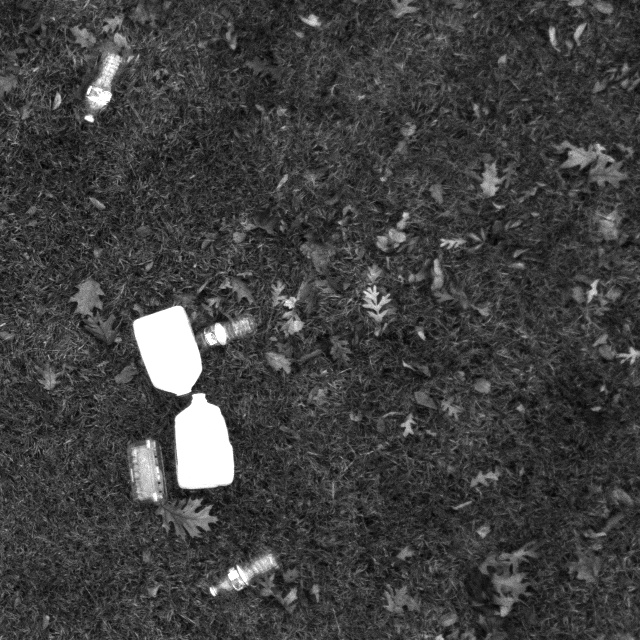bottle: (202, 544, 279, 612), (187, 298, 260, 357), (79, 40, 122, 123)
can: (125, 294, 206, 414), (167, 396, 241, 493)
container: (123, 428, 170, 502)
